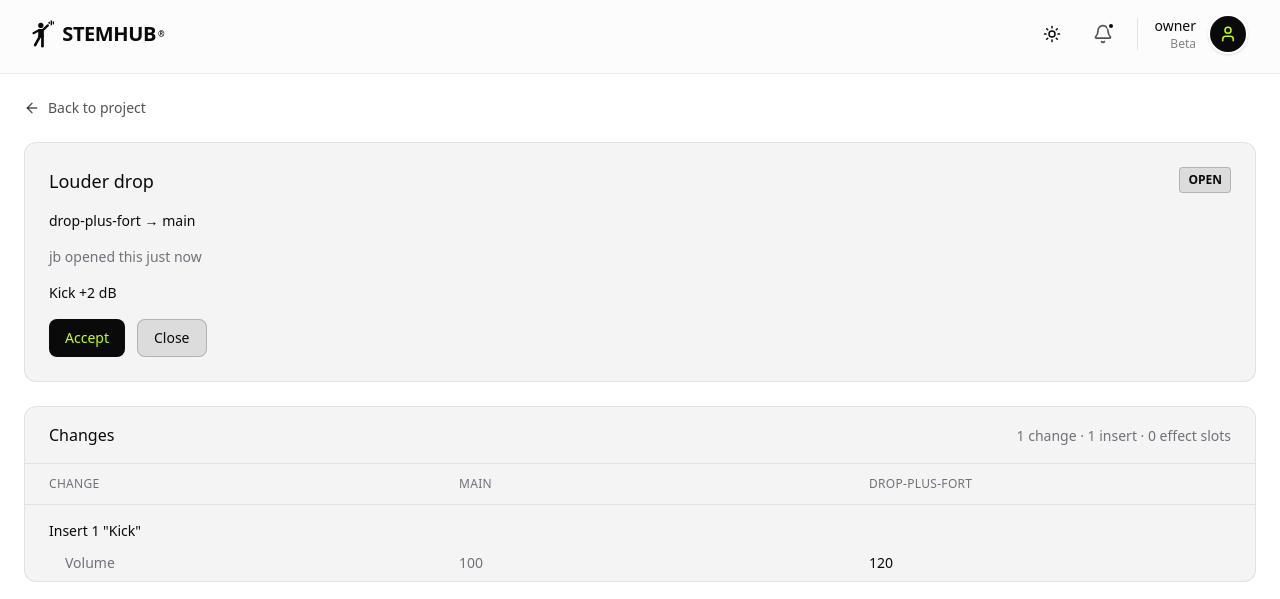
it: PullRequestPage › accepts the pull request and shows it merged
Click the button "Accept": (87,338) [49,319,125,357]
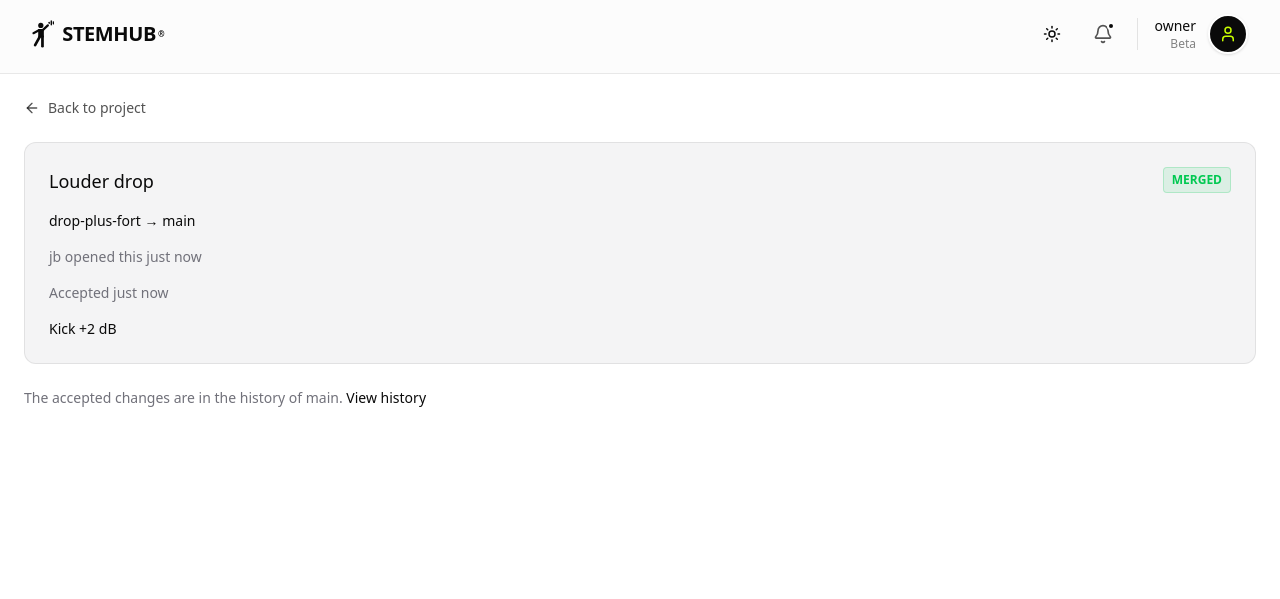
Expected: the text "MERGED" is shown, [1163,167,1231,193]
